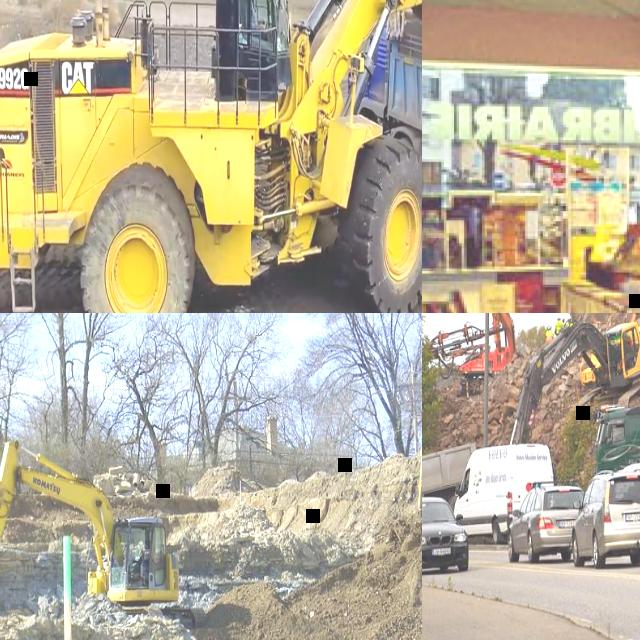Hardhat: (547, 324, 551, 329), (562, 316, 566, 320), (568, 315, 572, 319), (557, 315, 561, 319), (626, 334, 628, 340)
NO-Safety Vest: (244, 0, 265, 32)
Person: (243, 0, 269, 34), (624, 334, 634, 352), (554, 315, 562, 334), (546, 324, 554, 338), (566, 316, 572, 327), (562, 315, 566, 327)
Safety Vest: (626, 337, 634, 351), (555, 321, 562, 333), (546, 330, 554, 337), (567, 320, 573, 326), (562, 321, 564, 327)
vehicle: (0, 0, 422, 313), (0, 438, 207, 626), (355, 0, 422, 256), (508, 320, 640, 447), (453, 442, 554, 544), (422, 313, 516, 396), (571, 468, 640, 568), (507, 485, 585, 562), (422, 440, 476, 548), (422, 495, 469, 576), (594, 403, 640, 476), (621, 463, 640, 489)
